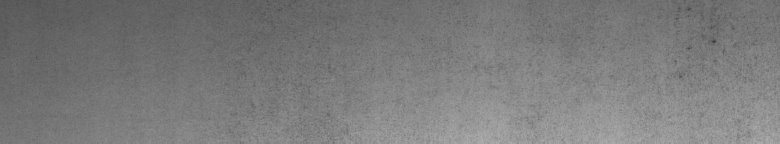ib: (667, 7, 763, 83)
